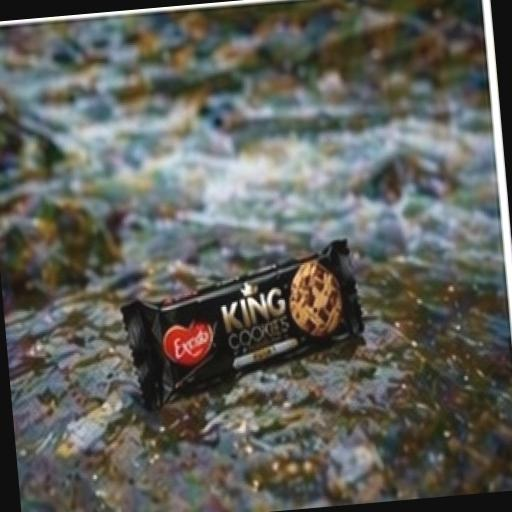king-cooking: (86, 216, 405, 422)
